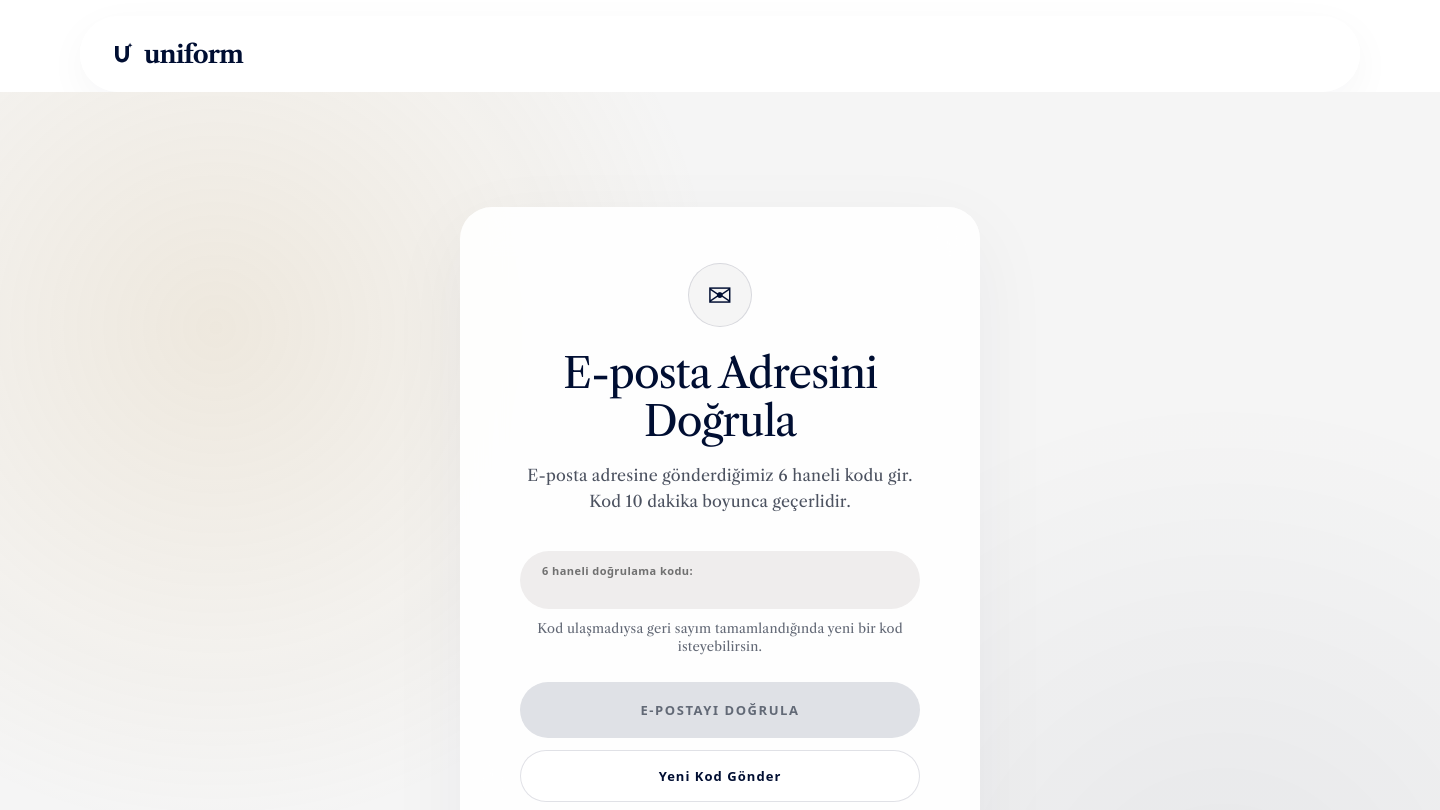
email verification flow › shows the invalid-code error
Type "123456" into the field labelled "6 haneli doğrulama kodu:" at (720, 580), box [520, 551, 920, 609]
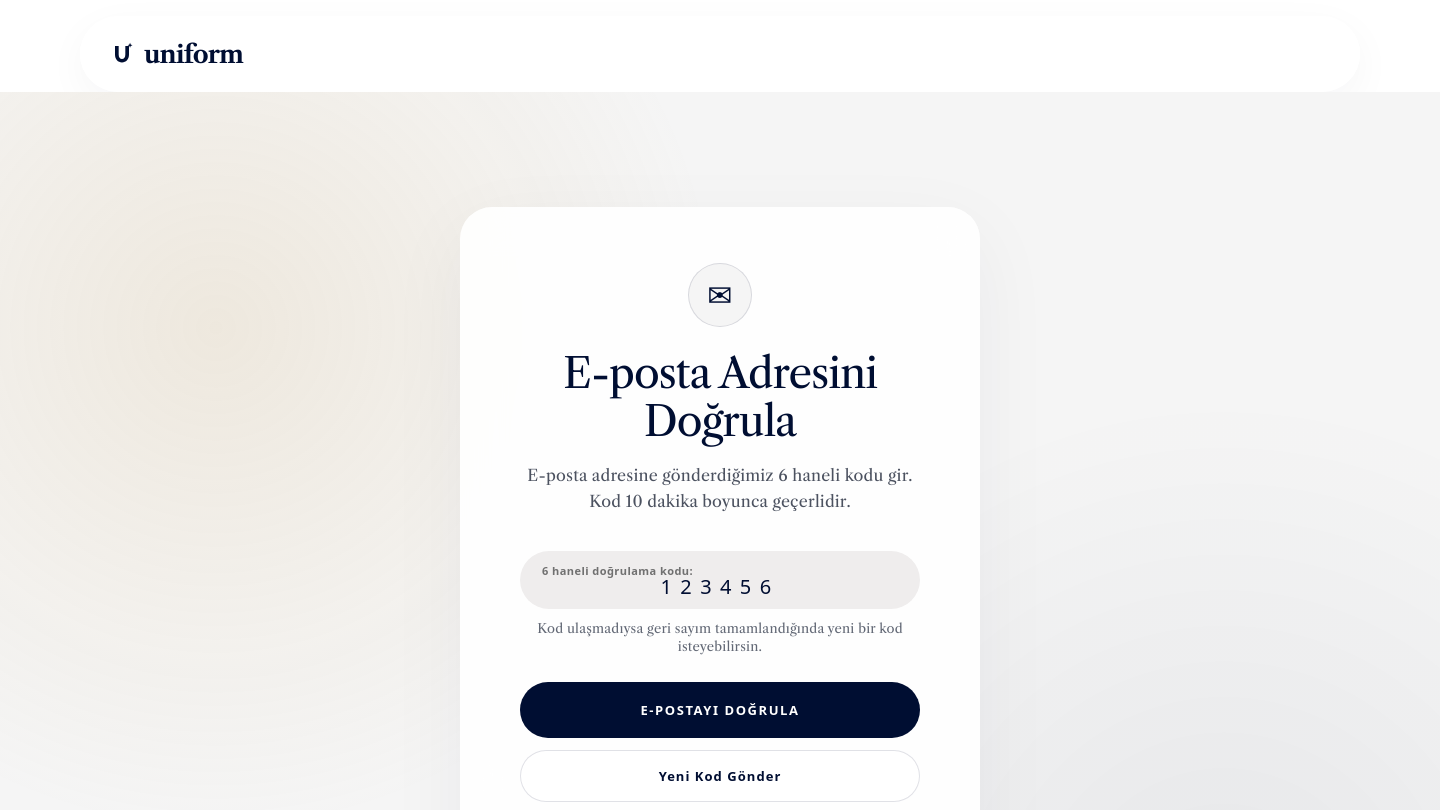
Click the button "E-postayı Doğrula" at (720, 710), box [520, 682, 920, 738]
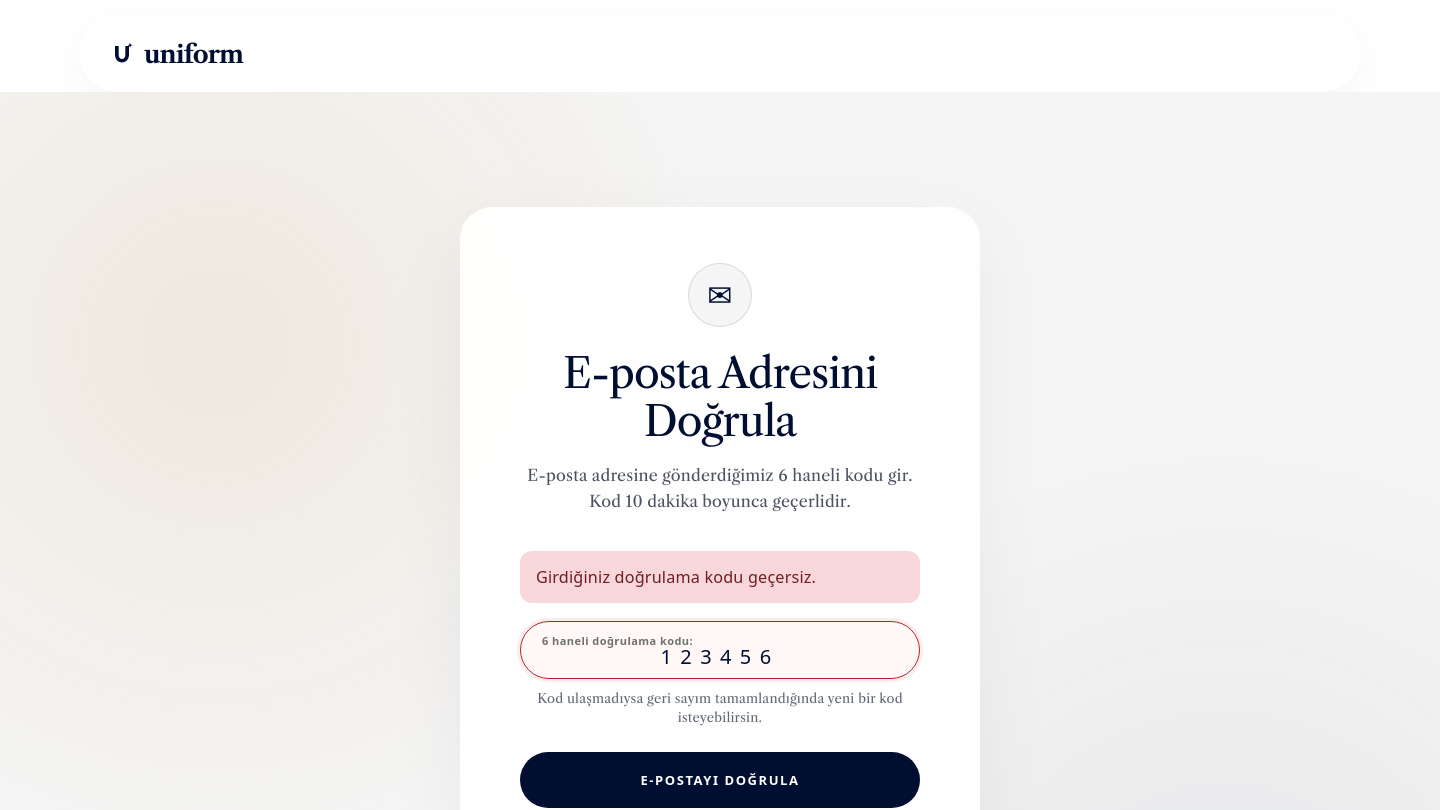
Expected: the text "Girdiğiniz doğrulama kodu geçersiz." is shown, [536, 566, 816, 588]
